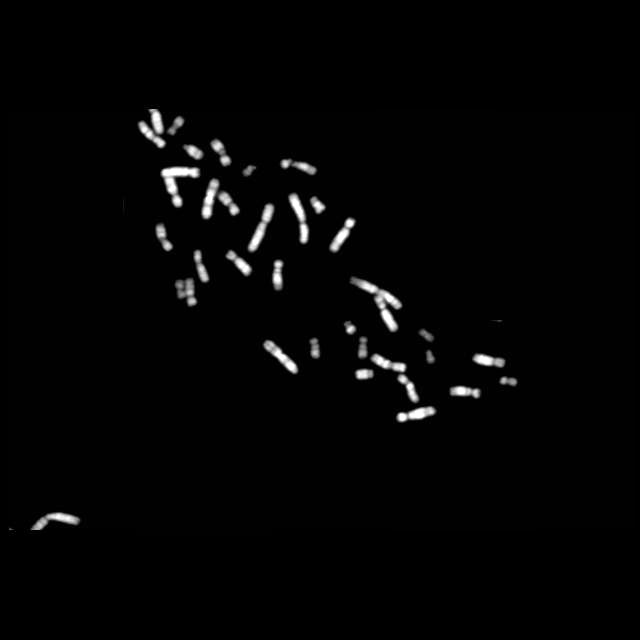chromosome: (348, 276, 402, 310), (248, 202, 274, 252), (262, 340, 298, 374), (290, 192, 308, 244), (372, 296, 398, 332), (28, 512, 80, 530), (329, 218, 355, 252), (162, 170, 183, 207), (202, 178, 220, 220), (226, 250, 252, 278), (136, 122, 164, 146), (280, 158, 316, 176), (396, 406, 436, 422), (397, 374, 419, 402), (371, 353, 405, 371), (472, 354, 506, 371), (218, 190, 240, 216), (193, 250, 209, 284), (210, 140, 230, 167), (154, 224, 173, 252), (160, 166, 198, 178), (450, 386, 480, 400), (272, 258, 284, 292), (148, 108, 162, 134), (166, 115, 184, 135), (183, 144, 204, 160), (186, 277, 197, 307), (354, 367, 374, 383), (356, 335, 368, 359), (310, 198, 326, 215), (310, 336, 320, 360), (172, 280, 185, 298), (420, 329, 434, 343), (244, 163, 256, 177), (344, 320, 356, 334), (500, 376, 516, 386), (424, 350, 434, 364)
